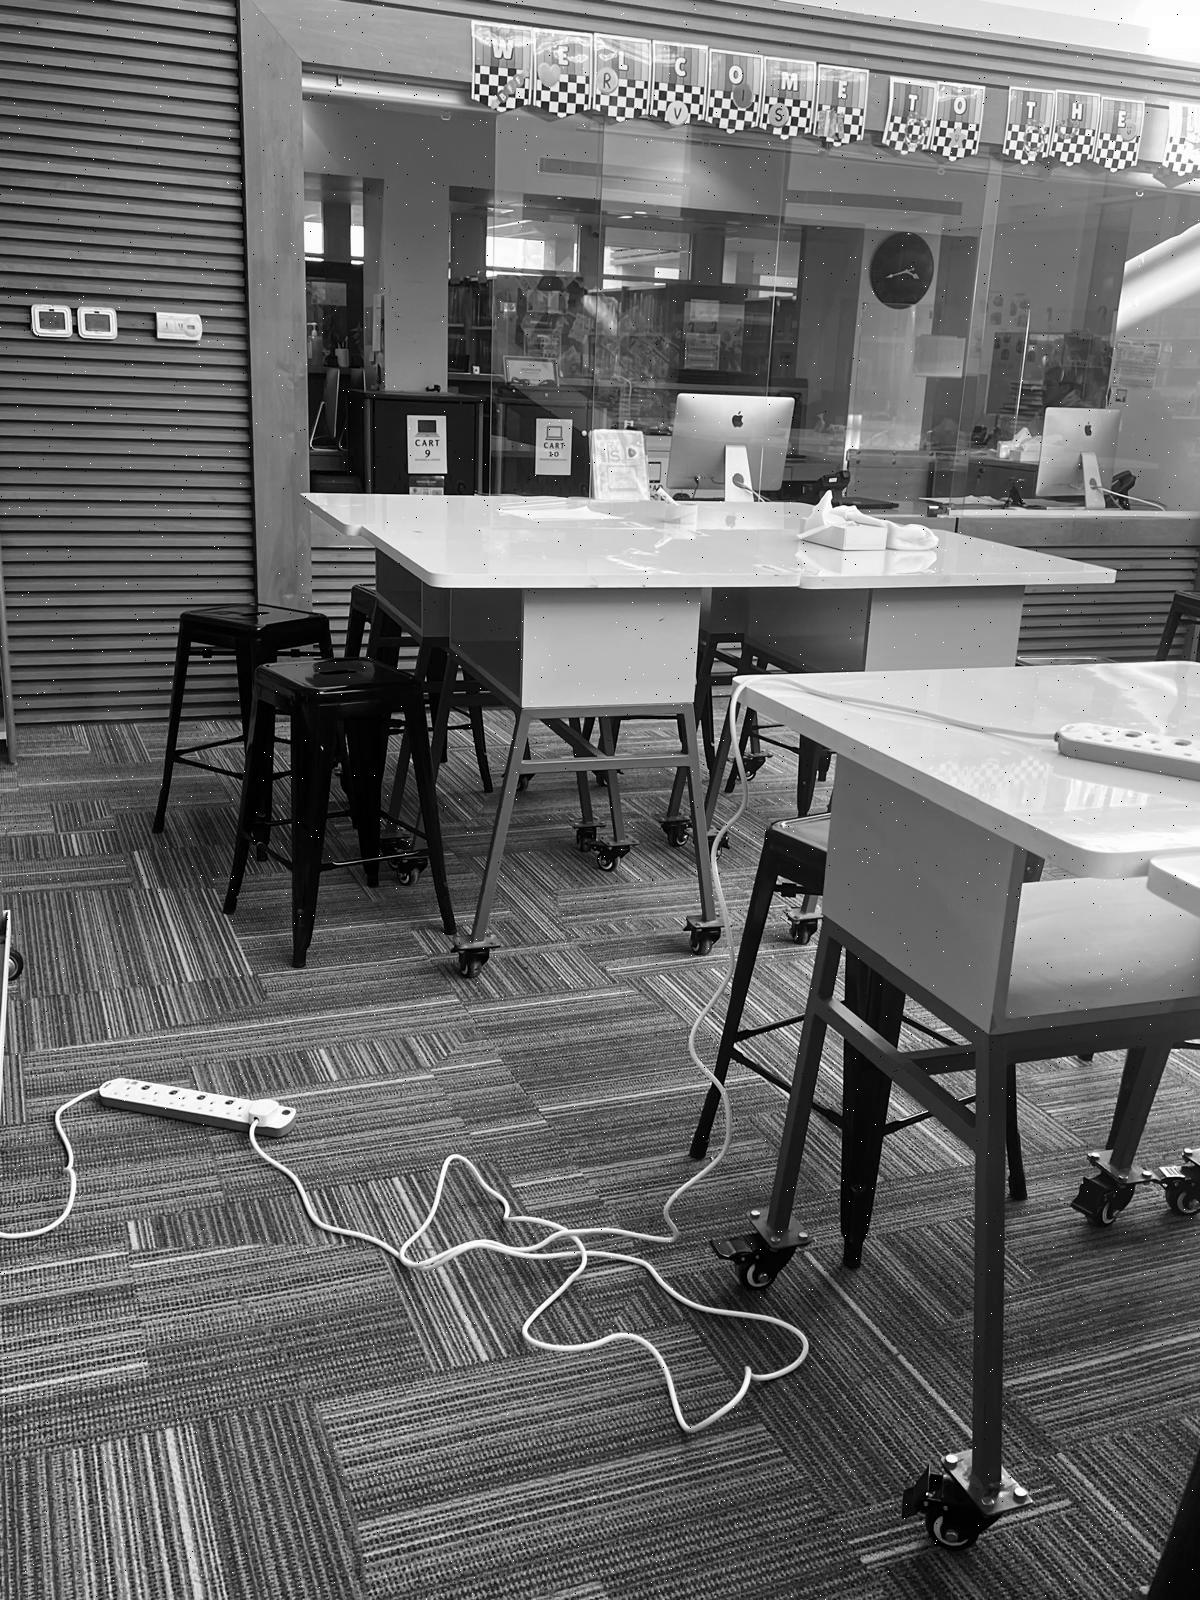Chair: (153, 603, 455, 968)
Table: (739, 661, 1199, 1547), (305, 496, 966, 923)
Wall: (1021, 515, 1199, 659)
